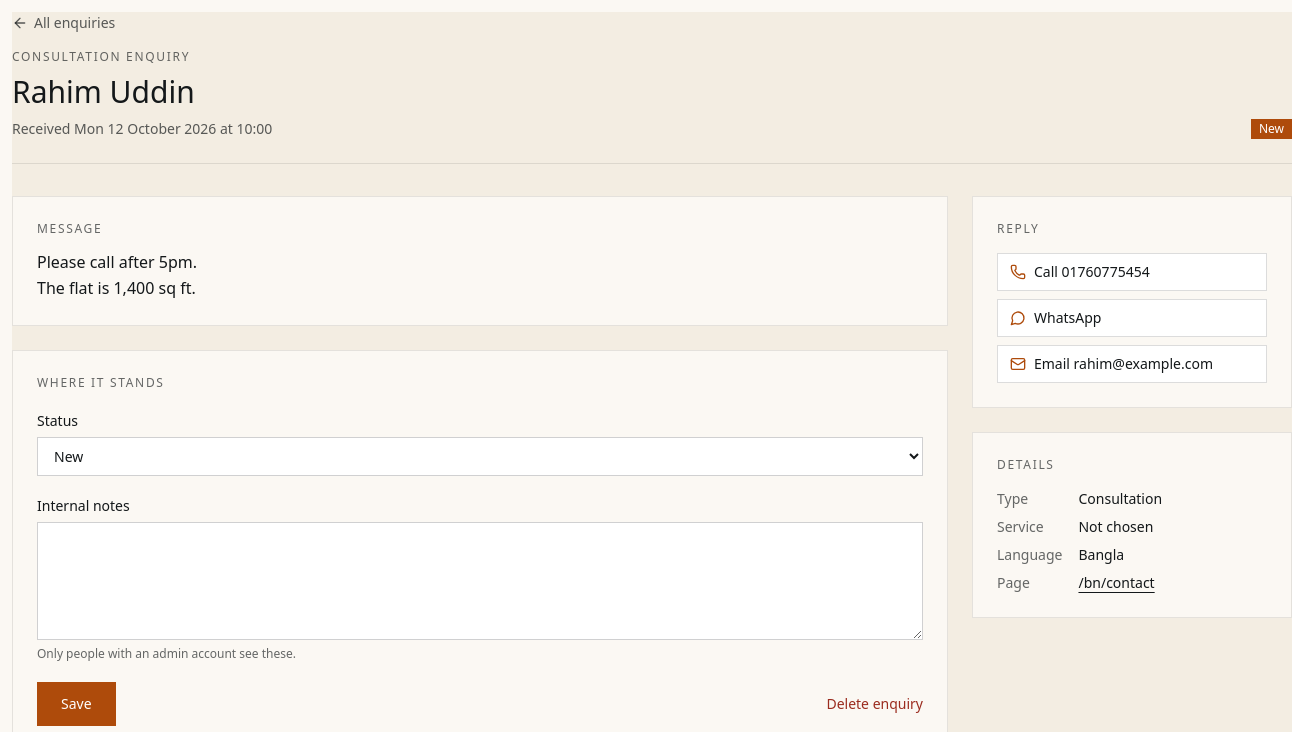
EnquiryDetail › saves a new status and internal notes
The image size is (1292, 732).
Expected: the text "Please call after 5pm. The flat is 1,400 sq ft." is shown, [37,250,197,298]
Select "Contacted" in the dropdown labelled "Status" at (480, 456), box [37,436,923,476]
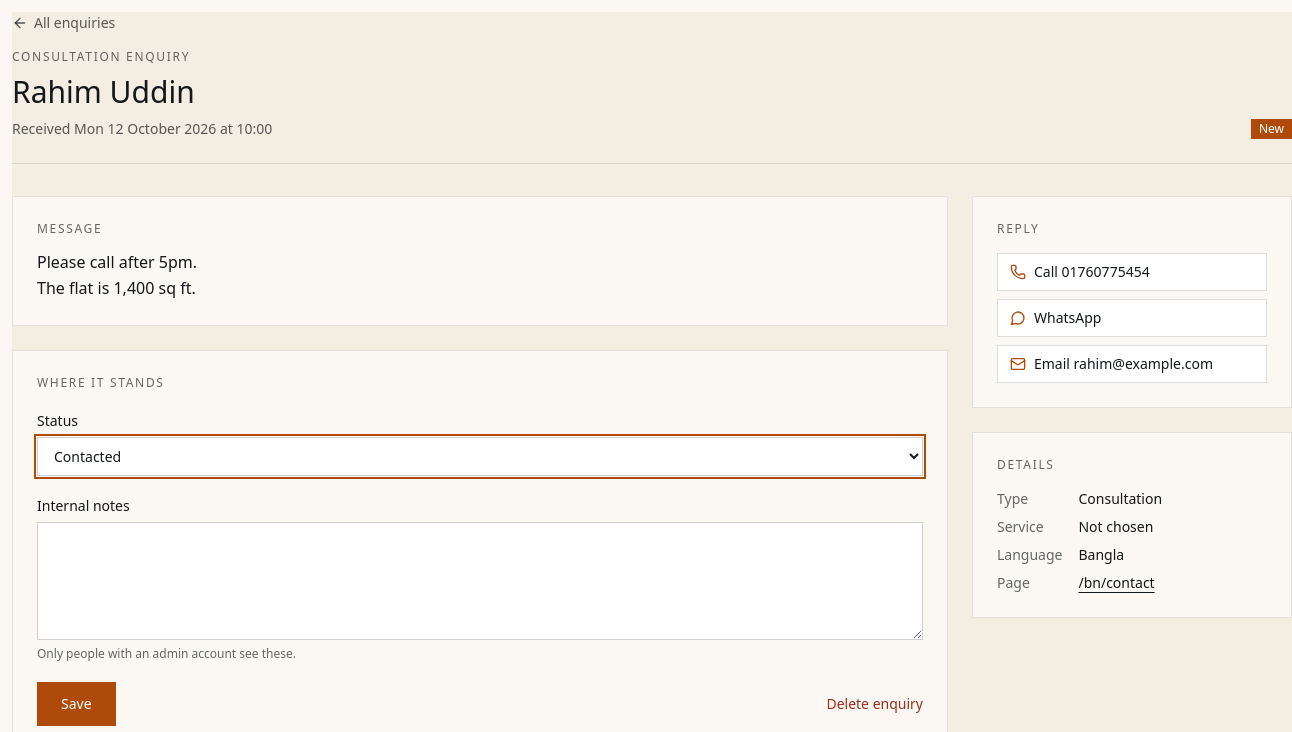
Type "Called, visiting Saturday." into the text box labelled "Internal notes" at (480, 580), box [37,522,923,640]
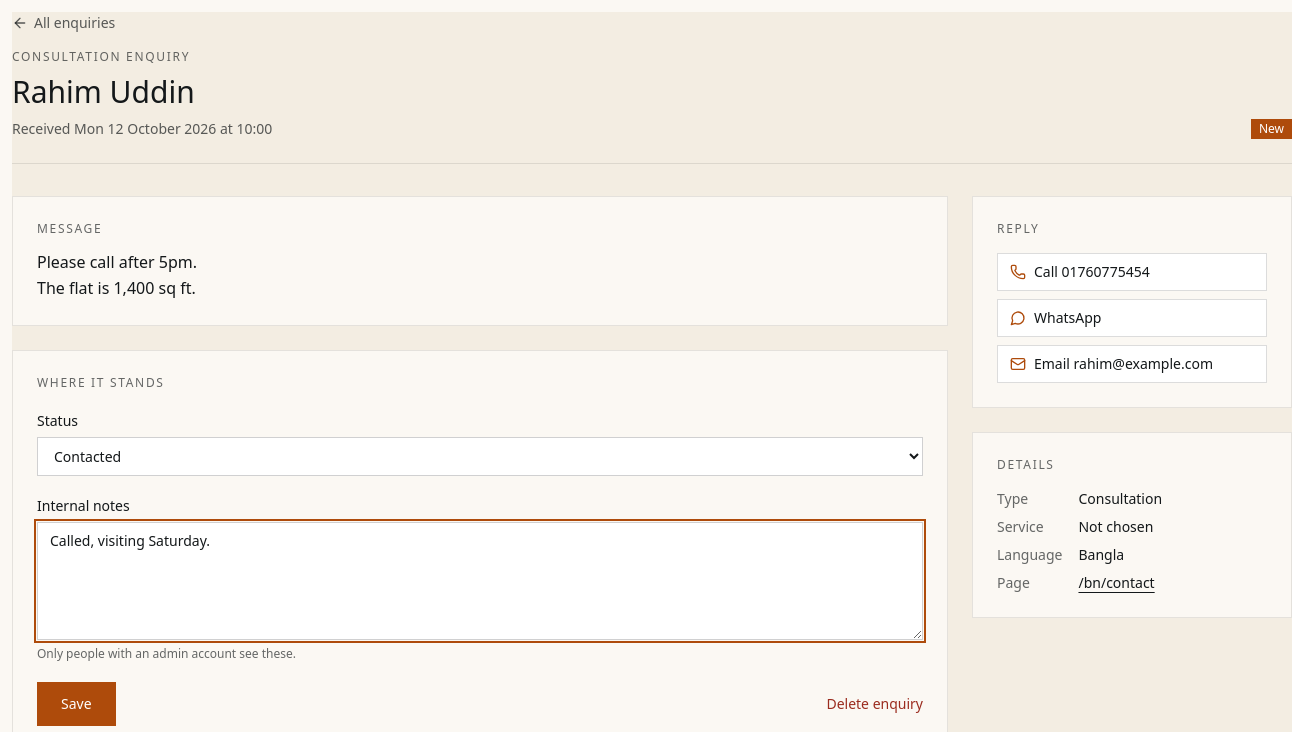
Click the button "Save" at (76, 704), box [37,682,116,726]
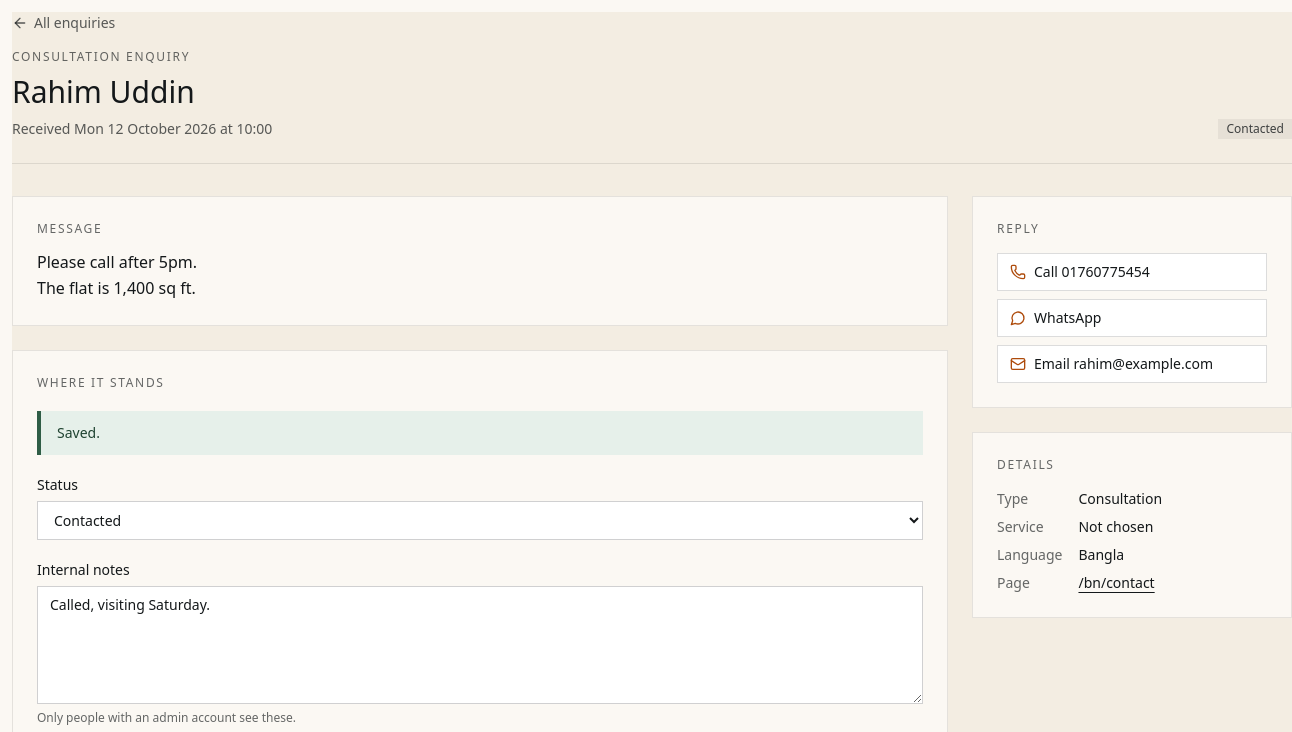
Expected: the message shows "Saved", [57,422,100,442]
